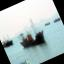fishing boat: (10, 12, 51, 54)
